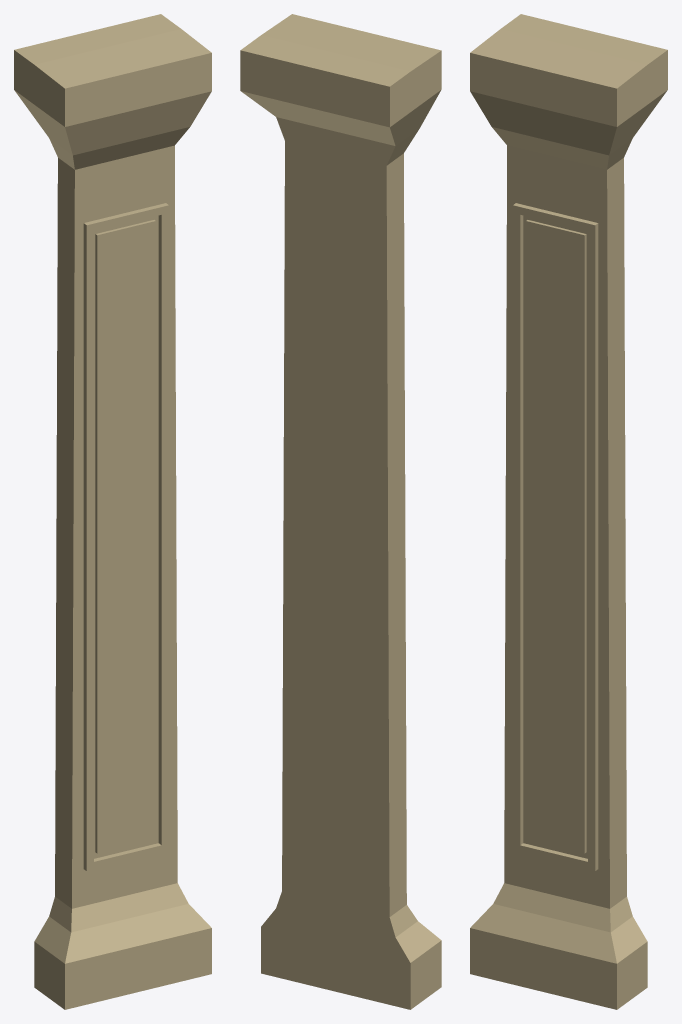
Rendered from rpg-mansion-stone-wall-pilaster-01.glb.
3 views of the same model, side by side, from view 1: azimuth 30°, elevation 25°; view 2: azimuth 150°, elevation 25°; view 3: azimuth 330°, elevation 25° (orthographic).
Visible parts, largest first — view 1: rpg-mansion-stone-wall-pilaster-01; view 2: rpg-mansion-stone-wall-pilaster-01; view 3: rpg-mansion-stone-wall-pilaster-01.
Boxes of the visible parts, bbox=[...] form: rpg-mansion-stone-wall-pilaster-01: bbox=[14, 14, 211, 1009]; rpg-mansion-stone-wall-pilaster-01: bbox=[240, 14, 441, 1009]; rpg-mansion-stone-wall-pilaster-01: bbox=[470, 14, 667, 1009].
Bounding box in the file's own units: 0.5 × 3 × 0.3.
